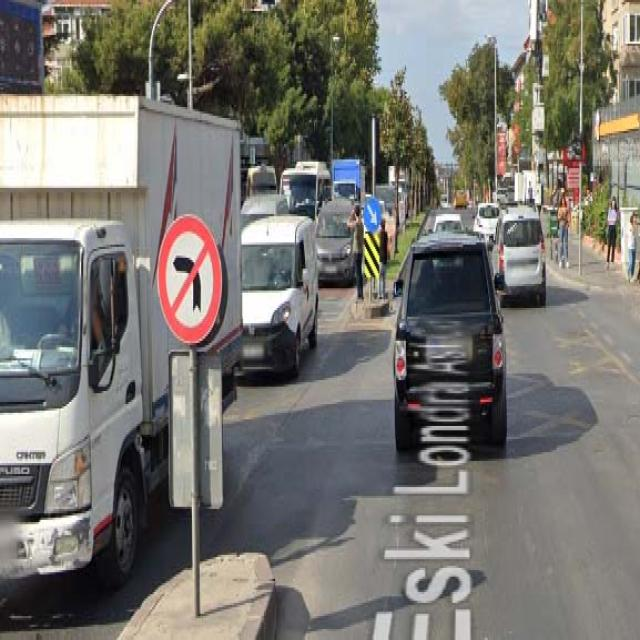soladonulmez: (158, 214, 220, 345)
